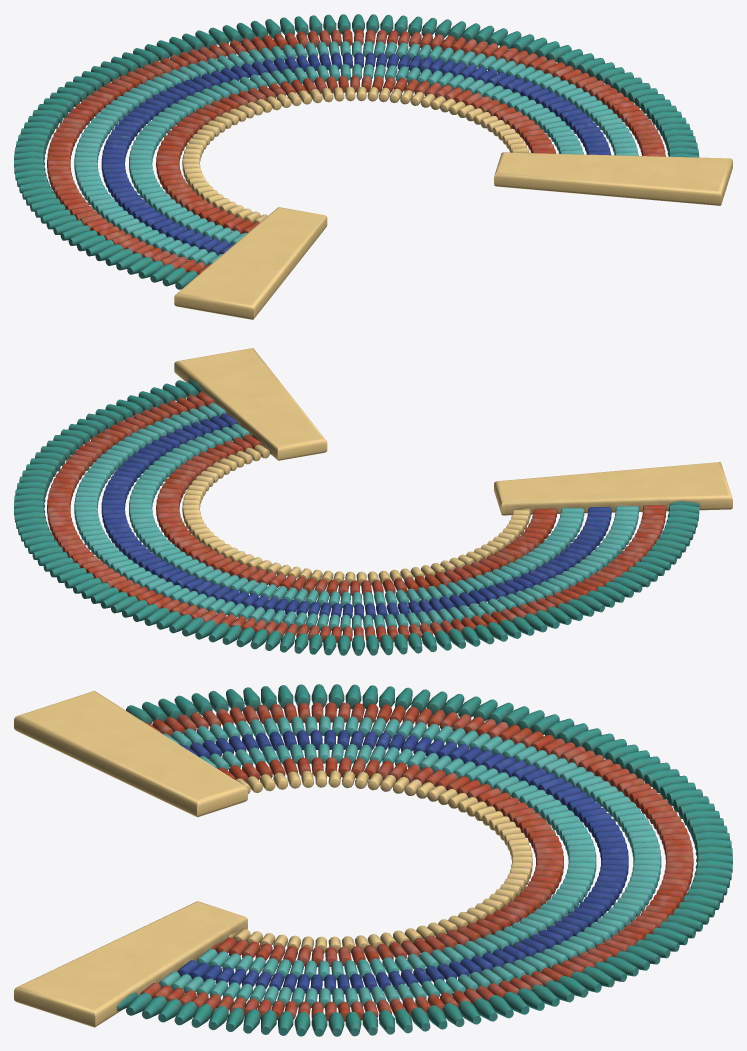
File: usekh_collar.glb
3 renders of one model, top to bottom at view 1: azimuth 30°, elevation 25°; view 2: azimuth 150°, elevation 25°; view 3: azimuth 270°, elevation 25°, orthographic. The views are drawn at different scales.
Visible parts, largest first — view 1: usekh_collar; view 2: usekh_collar; view 3: usekh_collar.
Boxes of the visible parts, x1,y1,x2,y2 form: usekh_collar: (14,14,732,319); usekh_collar: (14,348,732,655); usekh_collar: (14,684,732,1036).
Size of the model in its own units: 0.352 by 0.00814 by 0.3106.
Materials: 1 (1 with a texture image).
